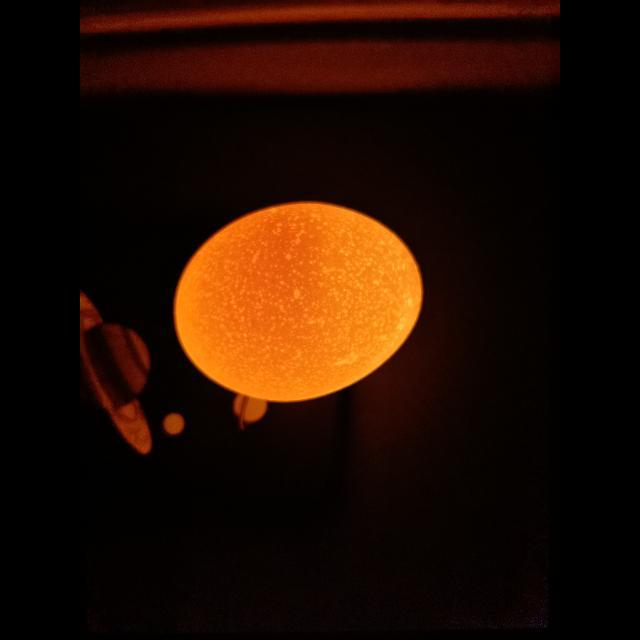AA - Premium: (174, 203, 423, 401)
